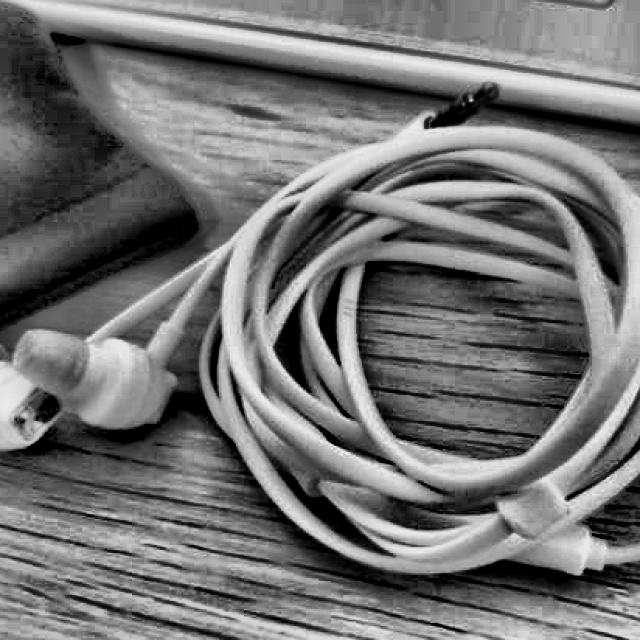Cable: (0, 75, 640, 580)
